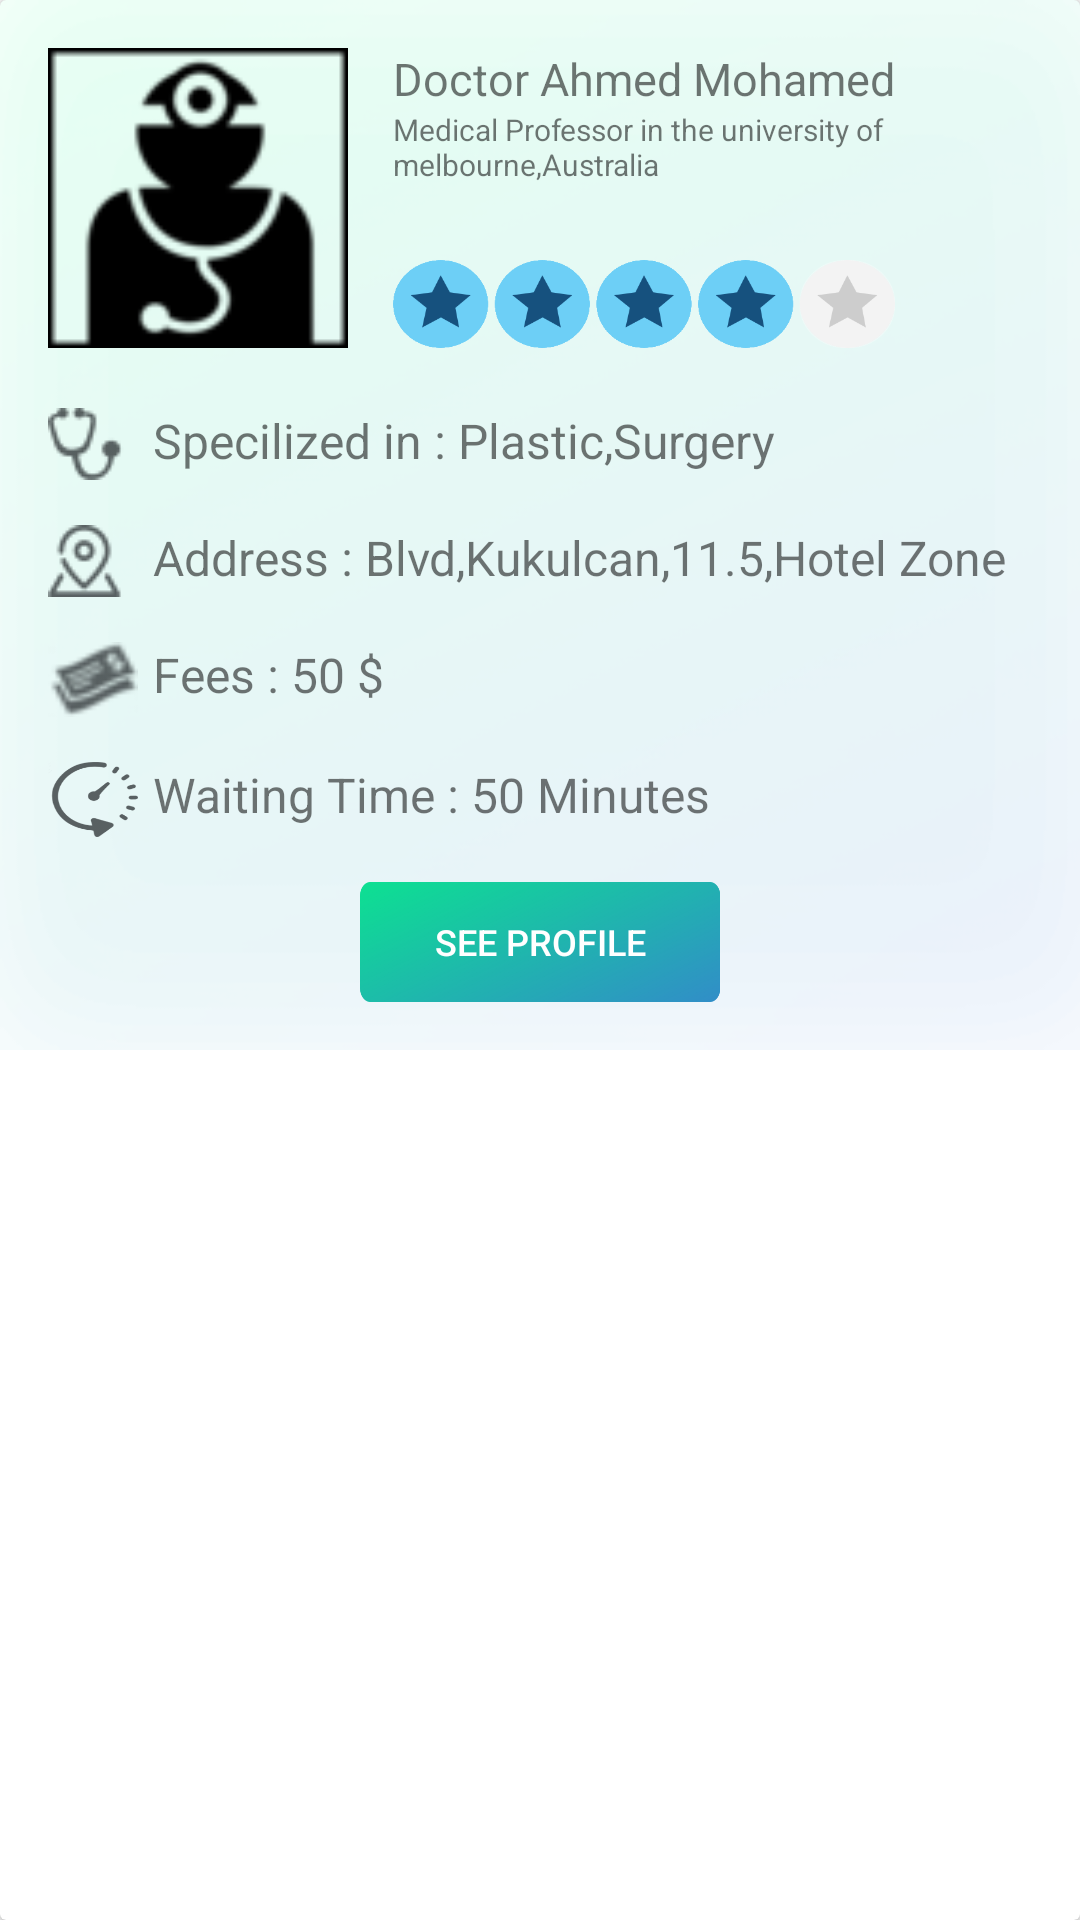

Where icons sit on this 1080 x 1920 app screen, as (x1, y1, x2, y2):
docprofile: (48, 48, 348, 348)
doctor city: (48, 525, 121, 597)
